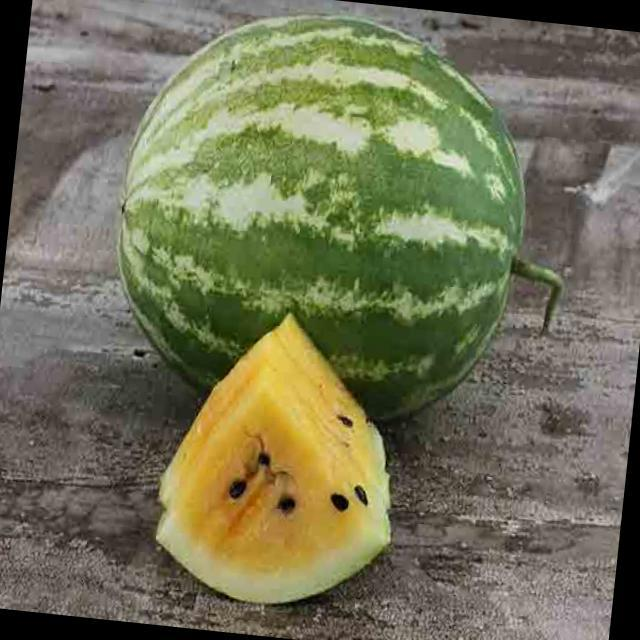WATERMELON: (101, 0, 542, 423), (150, 298, 412, 619)
